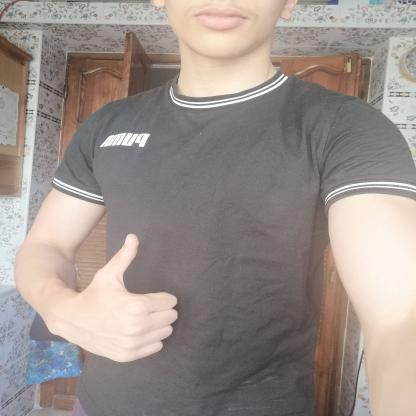ALIF: (53, 220, 191, 371)
